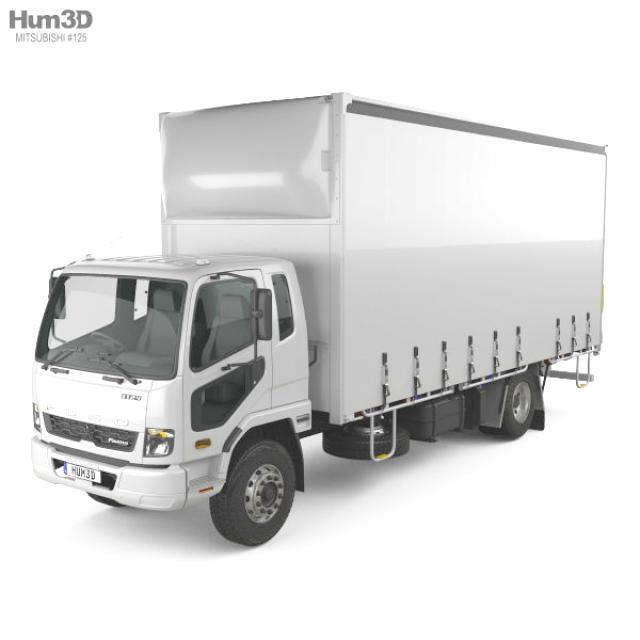truck: (17, 95, 607, 550)
